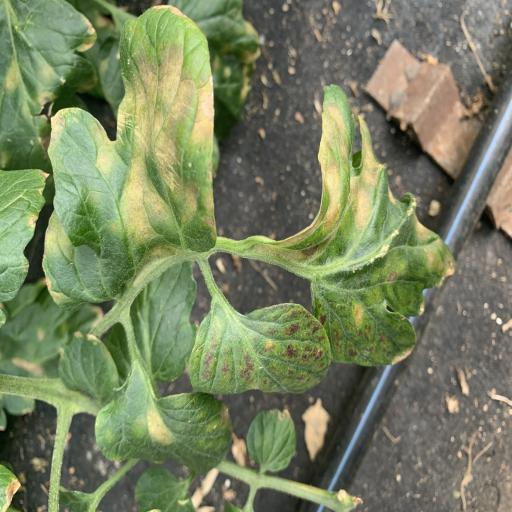disease_tomato: (44, 4, 216, 312), (310, 82, 454, 366), (94, 373, 232, 475)
